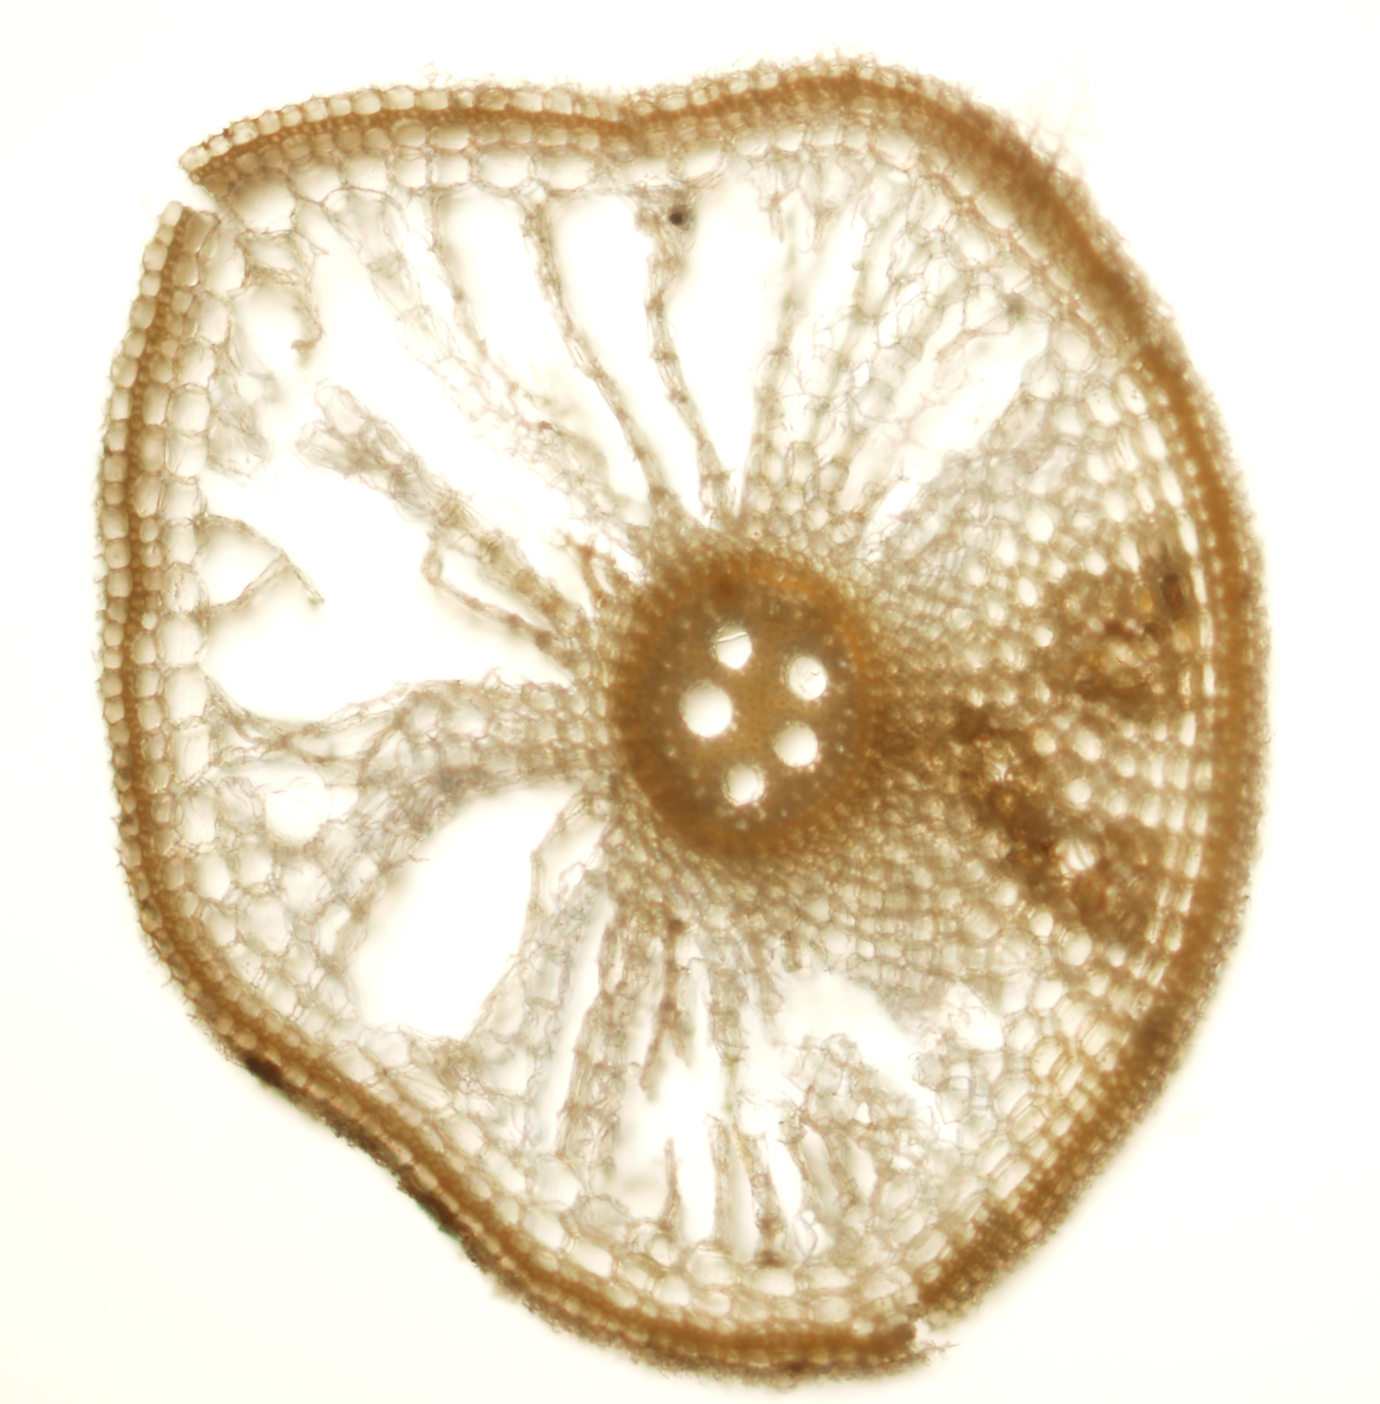lm: (679, 679, 732, 737), (772, 722, 818, 766), (722, 762, 766, 805), (713, 622, 752, 669), (789, 655, 826, 700)
